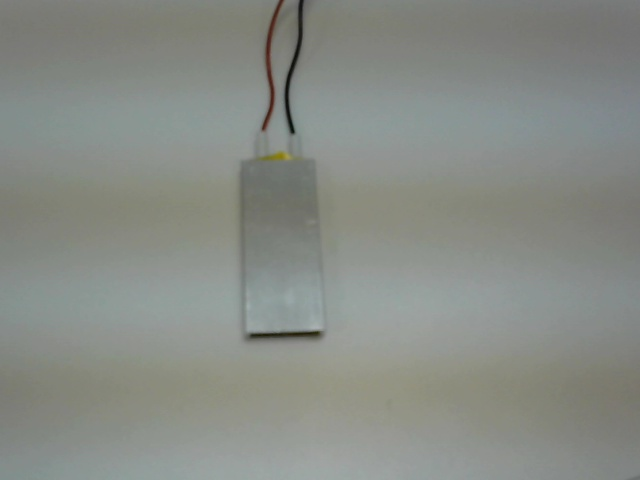heater: (229, 125, 336, 348)
